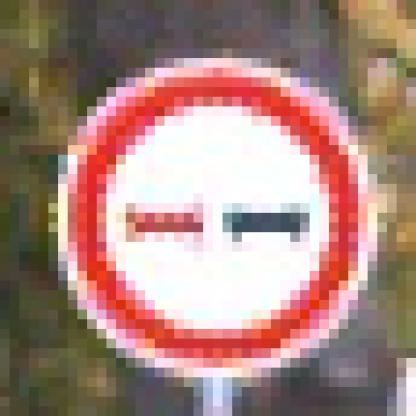No Overtaking: (49, 49, 369, 369)
